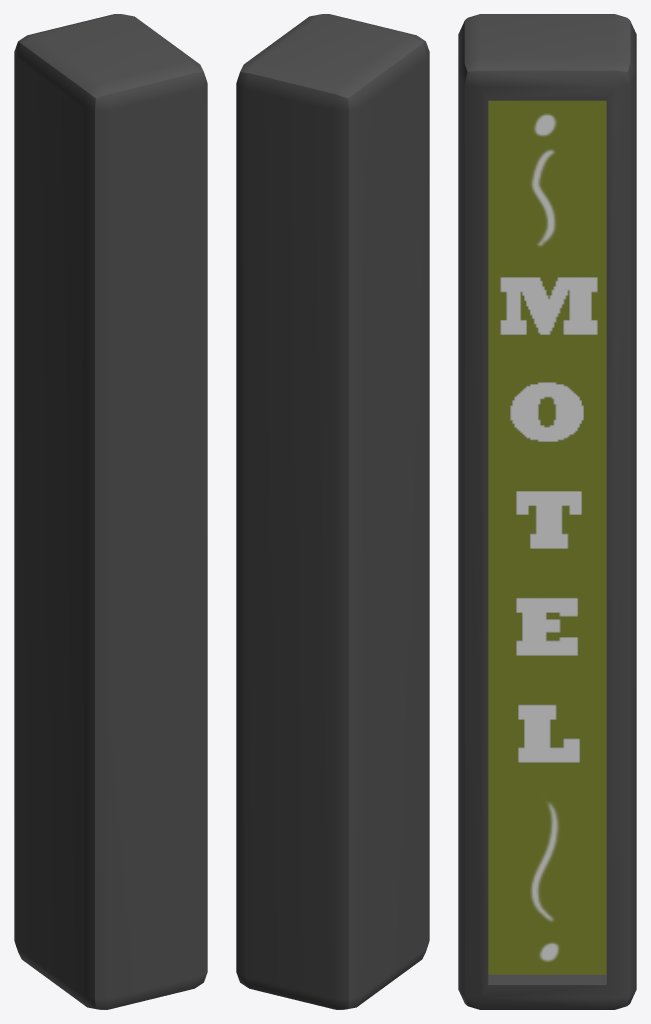
File: BuildingSign_18.fbx
3 renders of one model, left to right at view 1: azimuth 30°, elevation 25°; view 2: azimuth 150°, elevation 25°; view 3: azimuth 270°, elevation 25°, orthographic. The views are drawn at different scales.
Parts seen in each view (by area): view 1: polySurface971; view 2: polySurface971; view 3: polySurface971.
Part boxes in pixels (left/top/right/bottom): polySurface971: left=14, top=14, right=207, bottom=1009; polySurface971: left=236, top=14, right=429, bottom=1009; polySurface971: left=458, top=14, right=636, bottom=1009.
Bounding box in the file's own units: 0.423 × 3.03 × 0.5149.
